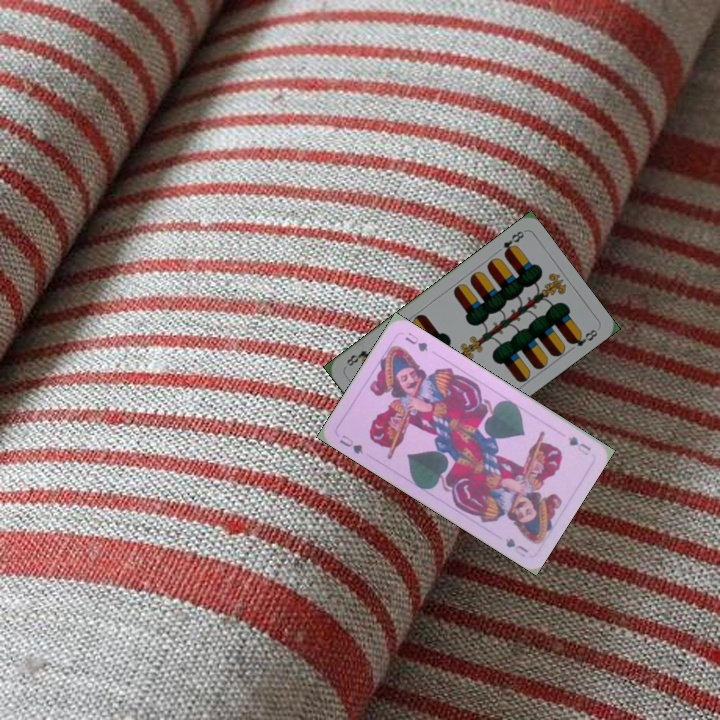E8: (499, 227, 527, 259)
GU: (335, 431, 366, 457), (564, 432, 594, 458)
